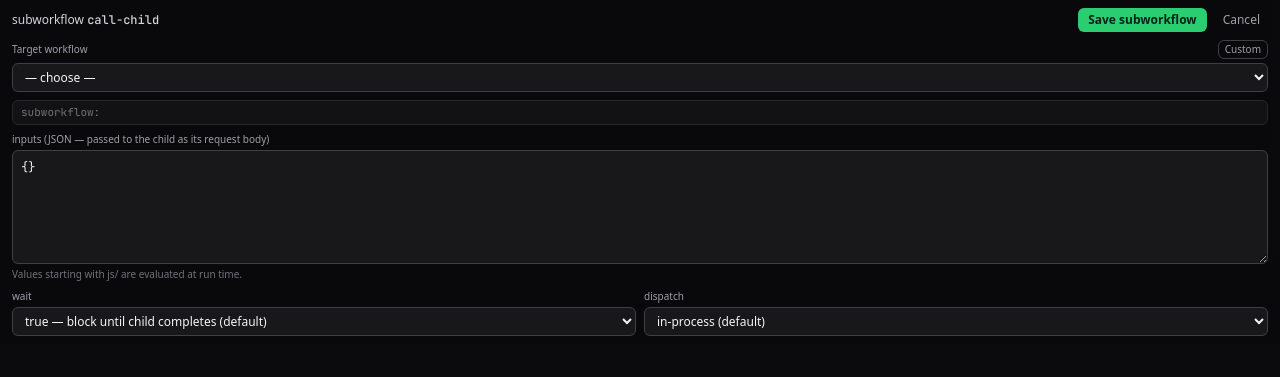
SubworkflowEditor — structural save › requires a target workflow before saving
The width and height of the screenshot is (1280, 377).
Click the button "Save subworkflow". click: (1142, 20)
box: [1078,8,1207,32]
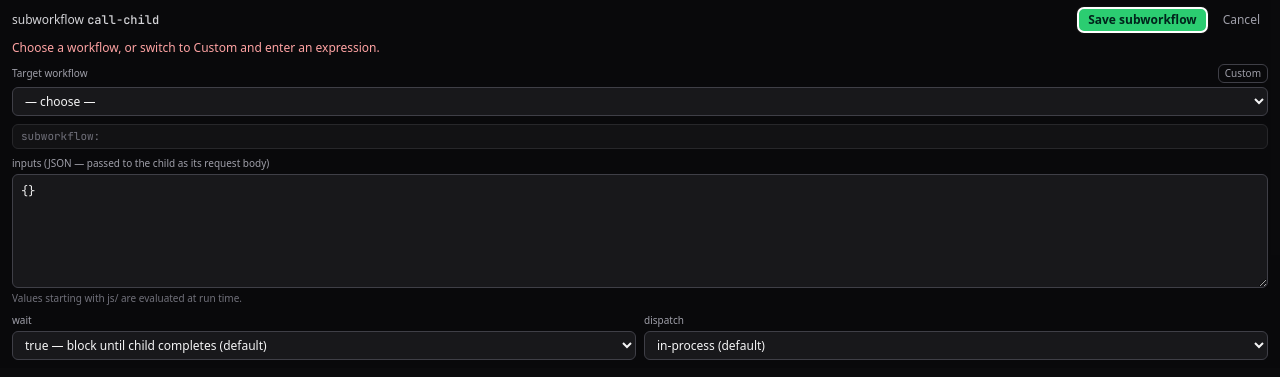
Expected: the text "Choose a workflow" is shown, [12,39,380,56]
